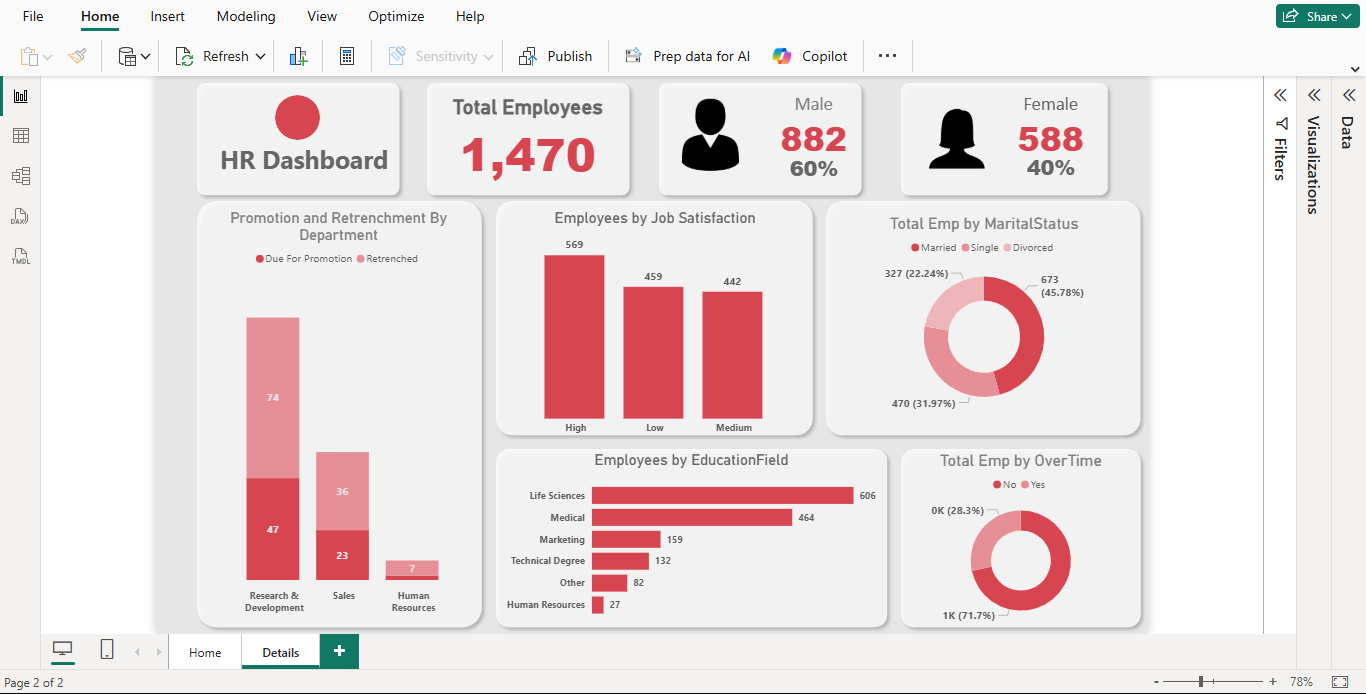

The page's visual inventory and layout, read from the dashboard file:
{"tool":"powerbi","page":{"name":"Details","canvas":[1280,720],"ordinal":1},"visuals":[{"type":"shape","box":[43.3,0,279.2,163],"z":0},{"type":"shape","box":[340.9,0,279.2,163],"z":1000},{"type":"shape","box":[640,0,279.2,163],"z":2000},{"type":"shape","box":[951.8,0,284.9,163],"z":3000},{"type":"textbox","box":[51,79.4,279.2,58.1],"z":4000},{"type":"shape","box":[153.1,24.1,58.1,58.1],"z":5000},{"type":"card","title":"Total Employees","fields":{"Values":["_Measures.Total Emp"]},"box":[330.2,24.1,299.1,116.2],"z":6000},{"type":"card","title":"Male","fields":{"Values":["_Measures.Male"]},"box":[788,21.3,120.5,87.9],"z":7000},{"type":"card","title":"Male","fields":{"Values":["_Measures.% Male"]},"box":[793.7,76.5,110.6,87.9],"z":8000},{"type":"card","title":"Female","fields":{"Values":["_Measures.Female"]},"box":[1094.2,21.3,120.5,87.9],"z":9000},{"type":"card","title":"Male","fields":{"Values":["_Measures.% Female"]},"box":[1099.8,75.1,110.6,87.9],"z":10000},{"type":"image","box":[669,28.3,93.5,95],"z":11000},{"type":"image","box":[985,35.4,93.5,93.5],"z":12000},{"type":"shape","box":[43.9,151.7,385.5,568.3],"z":13000},{"type":"columnChart","title":"Promotion and Retrenchment By Department","fields":{"Category":["HR Analytics Data.Department"],"Y":["_Measures.Due For Promotion","_Measures.Retrenched"]},"box":[62.4,171.5,347.2,530.1],"z":14000},{"type":"shape","box":[429.4,151.7,426.6,320.3],"z":15000},{"type":"shape","box":[856.1,151.7,423.8,320.3],"z":16000},{"type":"columnChart","title":"Employees by Job Satisfaction","fields":{"Category":["HR Analytics Data.Job Satisfaction"],"Y":["_Measures.Total Emp"]},"box":[455,171.5,377,300.5],"z":17000},{"type":"shape","box":[429.4,472,523,248],"z":18000},{"type":"barChart","title":"Employees by EducationField","fields":{"Y":["_Measures.Total Emp"],"Category":["HR Analytics Data.EducationField"]},"box":[446.5,483.3,489,226.8],"z":19000},{"type":"donutChart","fields":{"Y":["_Measures.Total Emp"],"Category":["HR Analytics Data.MaritalStatus"]},"box":[873.1,178.6,389.8,265],"z":20000},{"type":"shape","box":[952.4,472,327.4,248],"z":21000},{"type":"donutChart","fields":{"Y":["_Measures.Total Emp"],"Category":["HR Analytics Data.OverTime"]},"box":[952.4,483.3,327.4,231],"z":21001}]}

Visuals, with their boxes on the page's 1280x720 design canvas (x1, y1, x2, y2). These are canvas units, not pixel positions in the 1366x694 screenshot, which may show the page scaled, cropped or inside an application window:
shape: [43, 0, 322, 163]
shape: [341, 0, 620, 163]
shape: [640, 0, 919, 163]
shape: [952, 0, 1237, 163]
textbox: [51, 79, 330, 138]
shape: [153, 24, 211, 82]
"Total Employees" card: [330, 24, 629, 140]
"Male" card: [788, 21, 908, 109]
"Male" card: [794, 76, 904, 164]
"Female" card: [1094, 21, 1215, 109]
"Male" card: [1100, 75, 1210, 163]
image: [669, 28, 762, 123]
image: [985, 35, 1078, 129]
shape: [44, 152, 429, 720]
"Promotion and Retrenchment By Department" columnChart: [62, 172, 410, 702]
shape: [429, 152, 856, 472]
shape: [856, 152, 1280, 472]
"Employees by Job Satisfaction" columnChart: [455, 172, 832, 472]
shape: [429, 472, 952, 720]
"Employees by EducationField" barChart: [446, 483, 936, 710]
donutChart - _Measures.Total Emp x HR Analytics Data.MaritalStatus: [873, 179, 1263, 444]
shape: [952, 472, 1280, 720]
donutChart - _Measures.Total Emp x HR Analytics Data.OverTime: [952, 483, 1280, 714]
